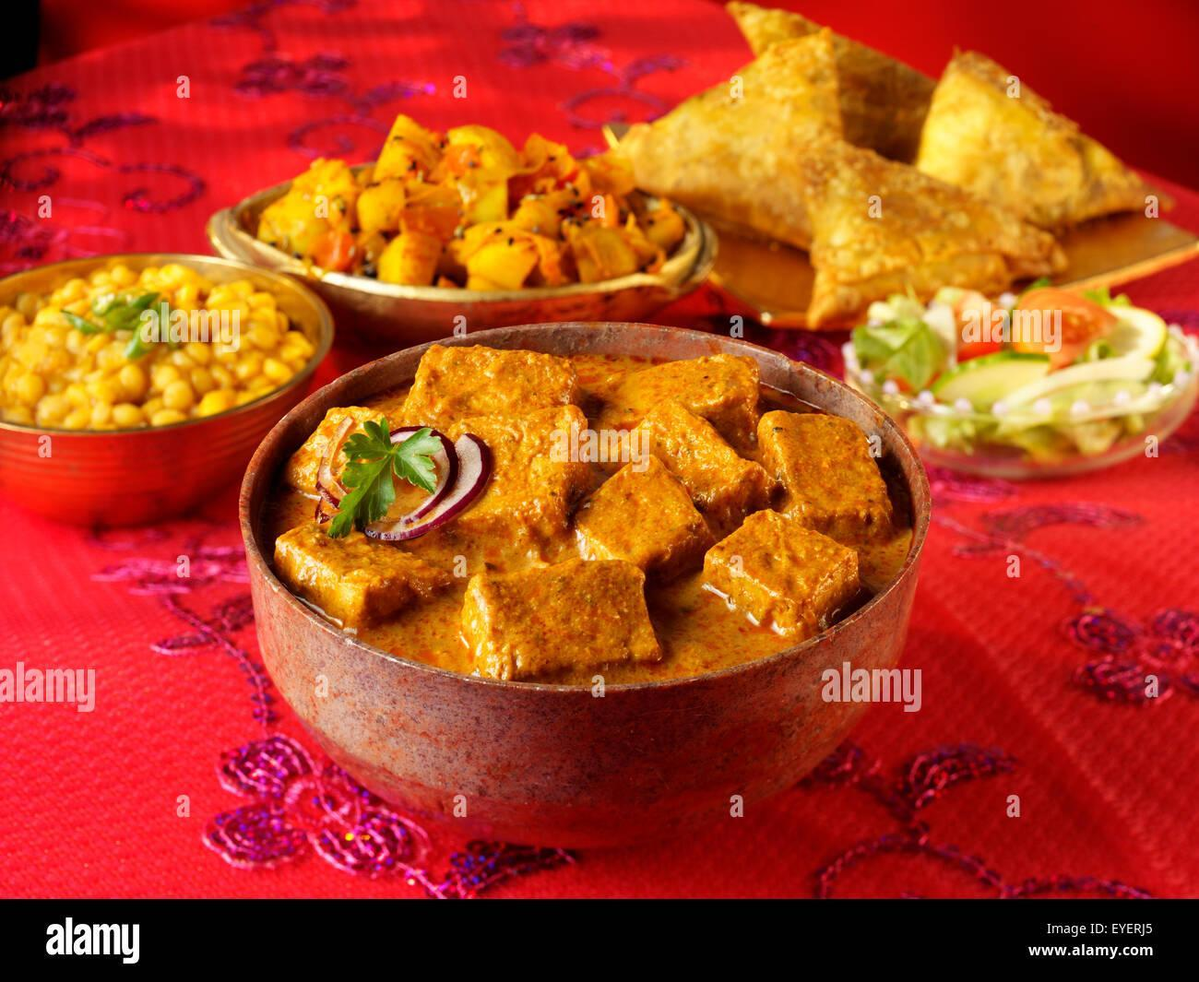paneer: (391, 404, 776, 636)
